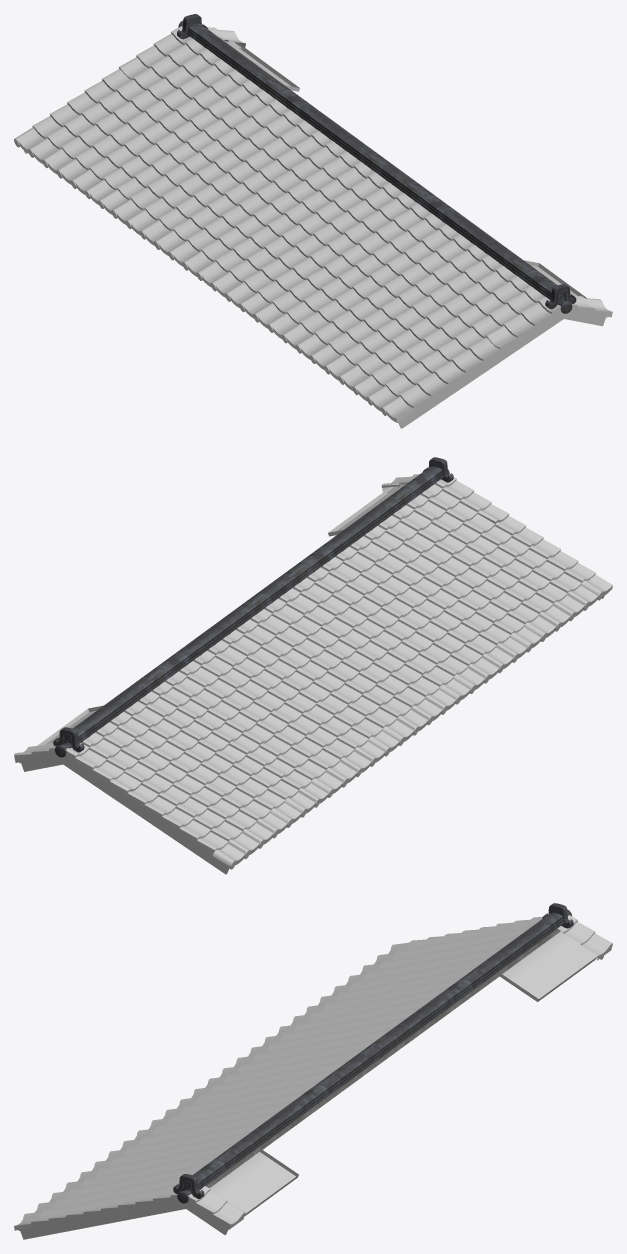
Rendered from SM_KYT_Roof1F_A_M3.fbx.
3 views of the same model, one above another, from view 1: azimuth 30°, elevation 25°; view 2: azimuth 150°, elevation 25°; view 3: azimuth 330°, elevation 25° (orthographic).
Visible parts, largest first — view 1: SM_KYT_Roof1F_A_M3_LOD0; view 2: SM_KYT_Roof1F_A_M3_LOD0; view 3: SM_KYT_Roof1F_A_M3_LOD0.
Boxes of the visible parts, left/top/right/bottom form: SM_KYT_Roof1F_A_M3_LOD0: left=14, top=14, right=612, bottom=428; SM_KYT_Roof1F_A_M3_LOD0: left=14, top=457, right=612, bottom=874; SM_KYT_Roof1F_A_M3_LOD0: left=14, top=903, right=612, bottom=1239.
Bounding box in the file's own units: 214 × 649 × 94.82.
